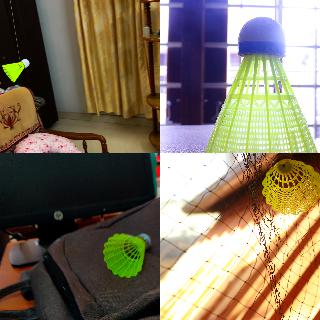shuttlecock: (202, 16, 319, 152), (261, 153, 319, 215), (103, 234, 149, 276), (2, 58, 30, 82)
